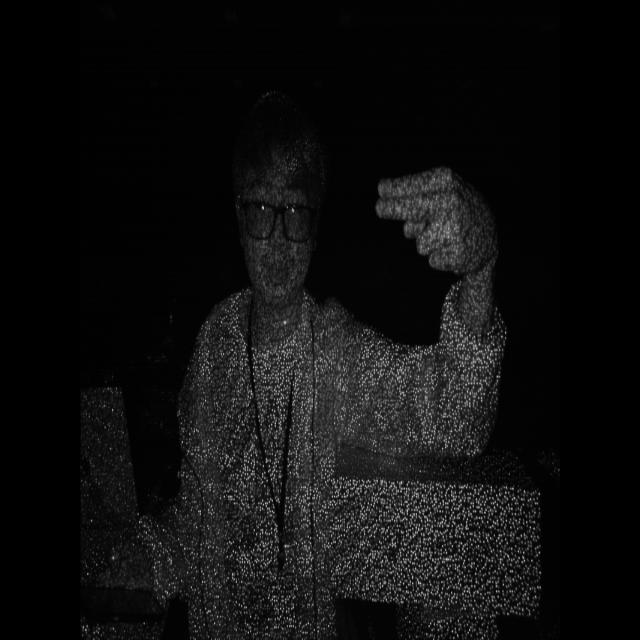G: (362, 154, 525, 318)
